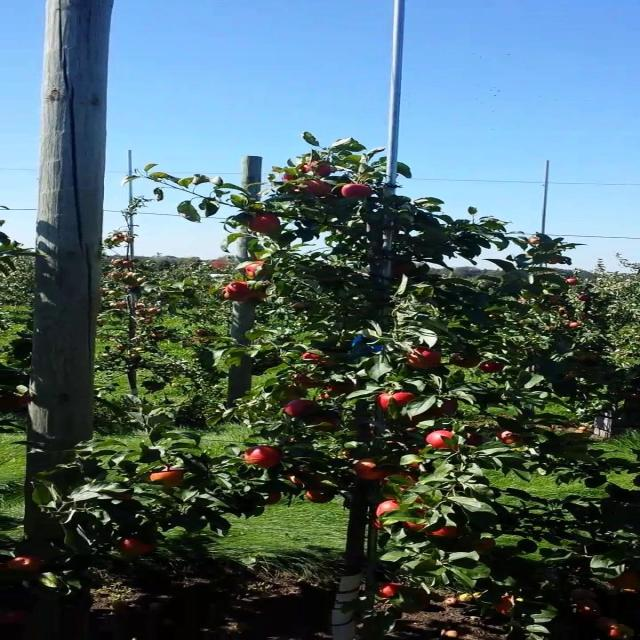apple: (376, 392, 420, 412), (404, 348, 443, 370), (148, 468, 185, 488), (383, 472, 420, 492), (248, 448, 283, 468), (355, 460, 388, 481), (227, 284, 261, 303), (120, 540, 156, 557), (284, 400, 318, 418), (298, 180, 334, 197), (326, 380, 361, 397), (6, 556, 43, 572), (248, 216, 284, 232), (340, 184, 375, 200), (426, 432, 455, 451), (611, 572, 639, 591), (291, 472, 324, 488), (305, 352, 336, 369), (312, 416, 341, 433), (433, 400, 460, 418), (454, 352, 482, 369), (376, 500, 402, 518), (305, 488, 334, 504), (298, 372, 325, 388), (426, 528, 462, 539), (497, 596, 516, 615), (497, 432, 524, 445), (305, 164, 334, 176), (383, 584, 404, 600), (390, 264, 416, 276), (483, 360, 505, 374), (476, 540, 498, 552), (13, 396, 34, 408), (248, 264, 263, 278), (468, 436, 485, 447), (404, 524, 427, 532), (269, 492, 284, 504), (376, 520, 384, 531), (284, 176, 299, 181), (412, 464, 420, 469)
